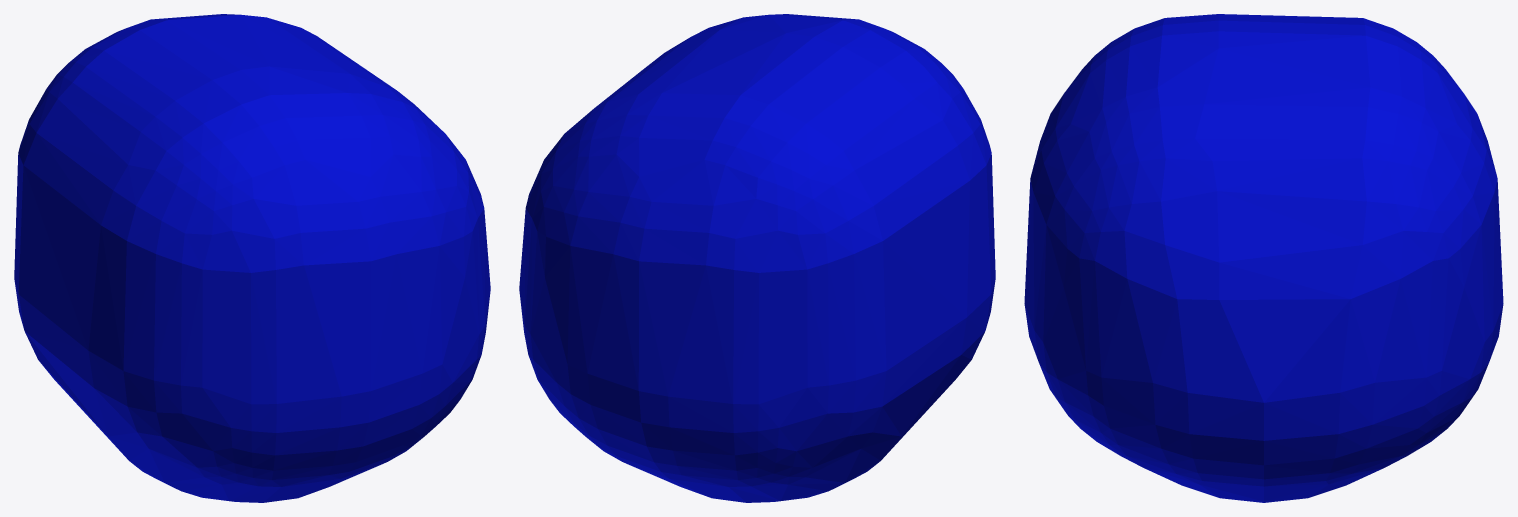
Rendered from COL_hollie_real.021.dae.
The picture shows the model from 3 angles, left to right: view 1: azimuth 30°, elevation 25°; view 2: azimuth 150°, elevation 25°; view 3: azimuth 270°, elevation 25°; orthographic projection.
Visible parts, largest first — view 1: COL_COL_COL_VIS_VIS_VIS_VIS_VIS_VIS_VIS_VIS_VIS_hollie_real_; view 2: COL_COL_COL_VIS_VIS_VIS_VIS_VIS_VIS_VIS_VIS_VIS_hollie_real_; view 3: COL_COL_COL_VIS_VIS_VIS_VIS_VIS_VIS_VIS_VIS_VIS_hollie_real_.
Boxes of the visible parts, <box> form: COL_COL_COL_VIS_VIS_VIS_VIS_VIS_VIS_VIS_VIS_VIS_hollie_real_: <box>14,14,490,502</box>; COL_COL_COL_VIS_VIS_VIS_VIS_VIS_VIS_VIS_VIS_VIS_hollie_real_: <box>519,14,995,502</box>; COL_COL_COL_VIS_VIS_VIS_VIS_VIS_VIS_VIS_VIS_VIS_hollie_real_: <box>1024,14,1503,502</box>.
Size of the model in its own units: 0.0594 by 0.063 by 0.0625.
